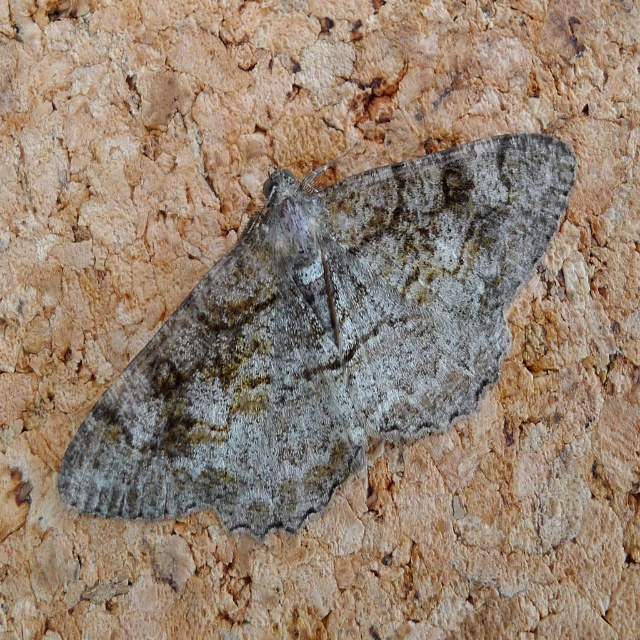Moths and butterflies: (54, 128, 580, 550)
